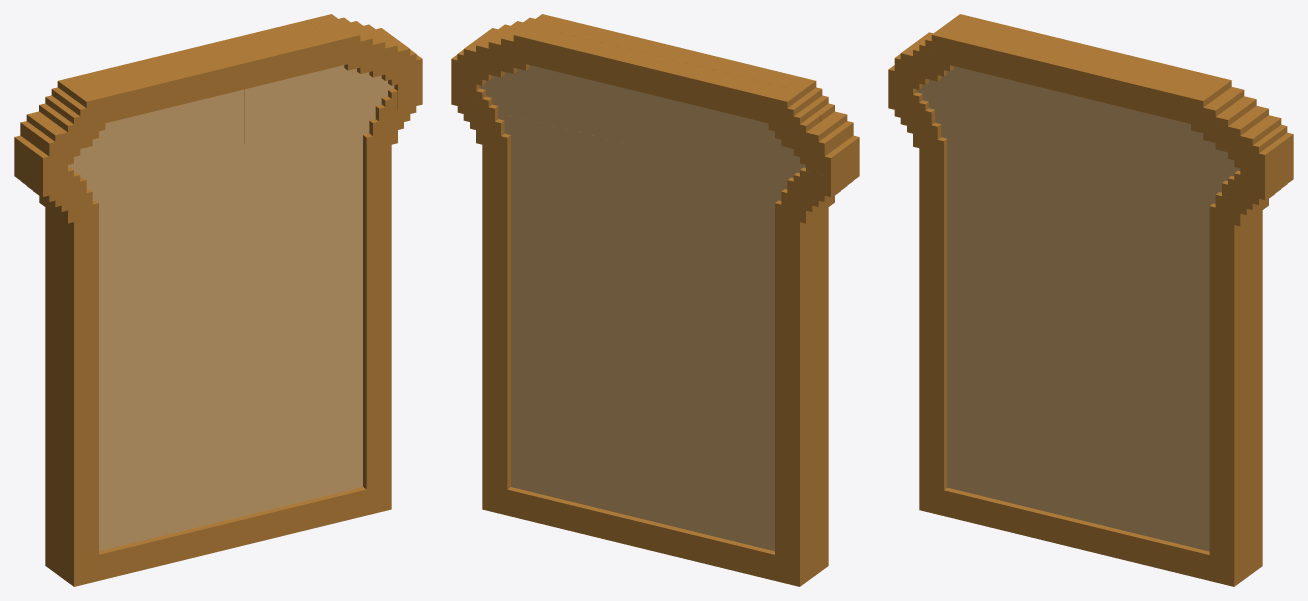
3 renders of one model, left to right at view 1: azimuth 30°, elevation 25°; view 2: azimuth 150°, elevation 25°; view 3: azimuth 330°, elevation 25°, orthographic.
Parts seen in each view (by area): view 1: node_MeshObject-726994944-PolyPaper18; view 2: node_MeshObject-726994944-PolyPaper18; view 3: node_MeshObject-726994944-PolyPaper18.
Boxes of the visible parts, bbox=[...] form: node_MeshObject-726994944-PolyPaper18: bbox=[14, 14, 422, 586]; node_MeshObject-726994944-PolyPaper18: bbox=[451, 14, 859, 586]; node_MeshObject-726994944-PolyPaper18: bbox=[888, 14, 1293, 586].
Size of the model in its own units: 0.6101 by 0.74 by 0.0801.
